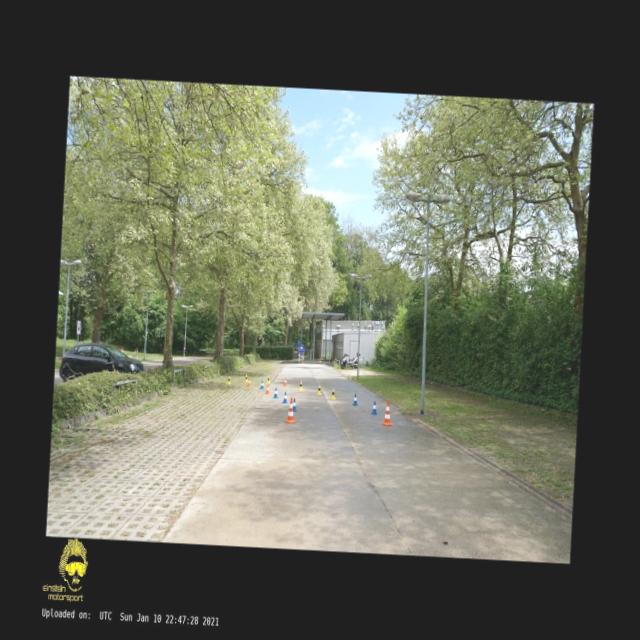blue_cone: (371, 401, 378, 415), (352, 394, 359, 406), (282, 392, 288, 404), (292, 398, 297, 412), (272, 388, 279, 398), (260, 380, 265, 390)
large_orange_cone: (382, 400, 394, 426), (284, 397, 296, 423)
orange_cone: (264, 384, 270, 394), (282, 378, 287, 387), (247, 378, 250, 387)
yellow_cone: (316, 384, 322, 395), (330, 389, 336, 400), (298, 381, 303, 391), (244, 374, 248, 382), (266, 376, 270, 384), (227, 376, 230, 386)
